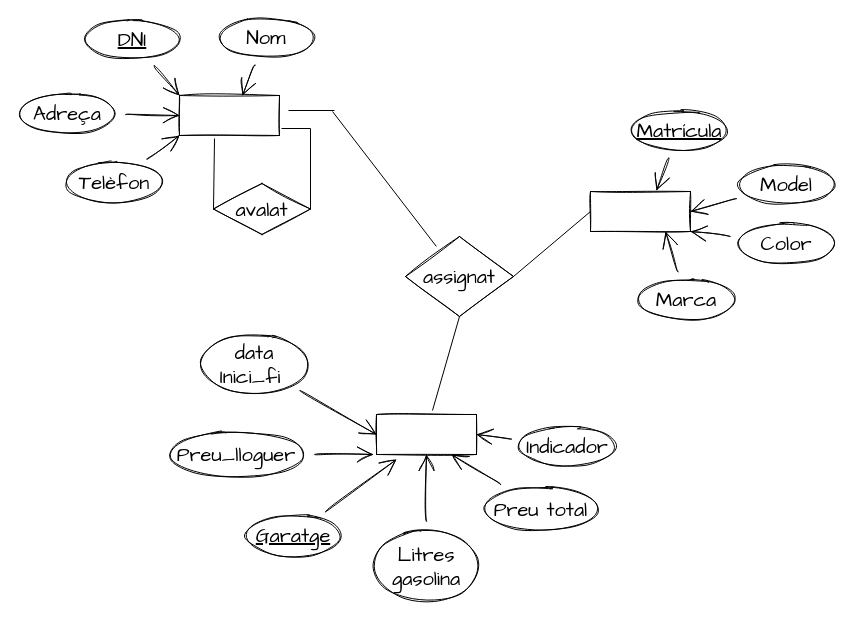
Image size: 854x620. Some labels were removed from this diagram. Each missing label, with the centre of its shape:
Client: (x=229, y=115)
Cotxe: (x=640, y=211)
Reserva: (x=426, y=434)
